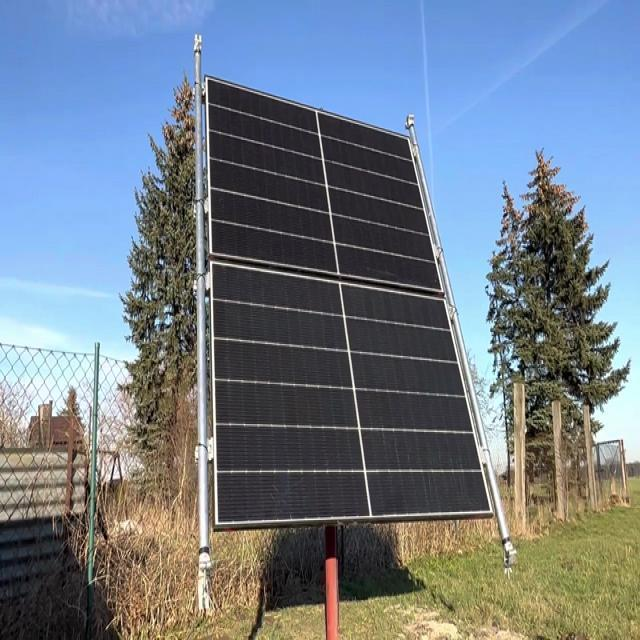Normal Solar Panel: (208, 75, 492, 528)
